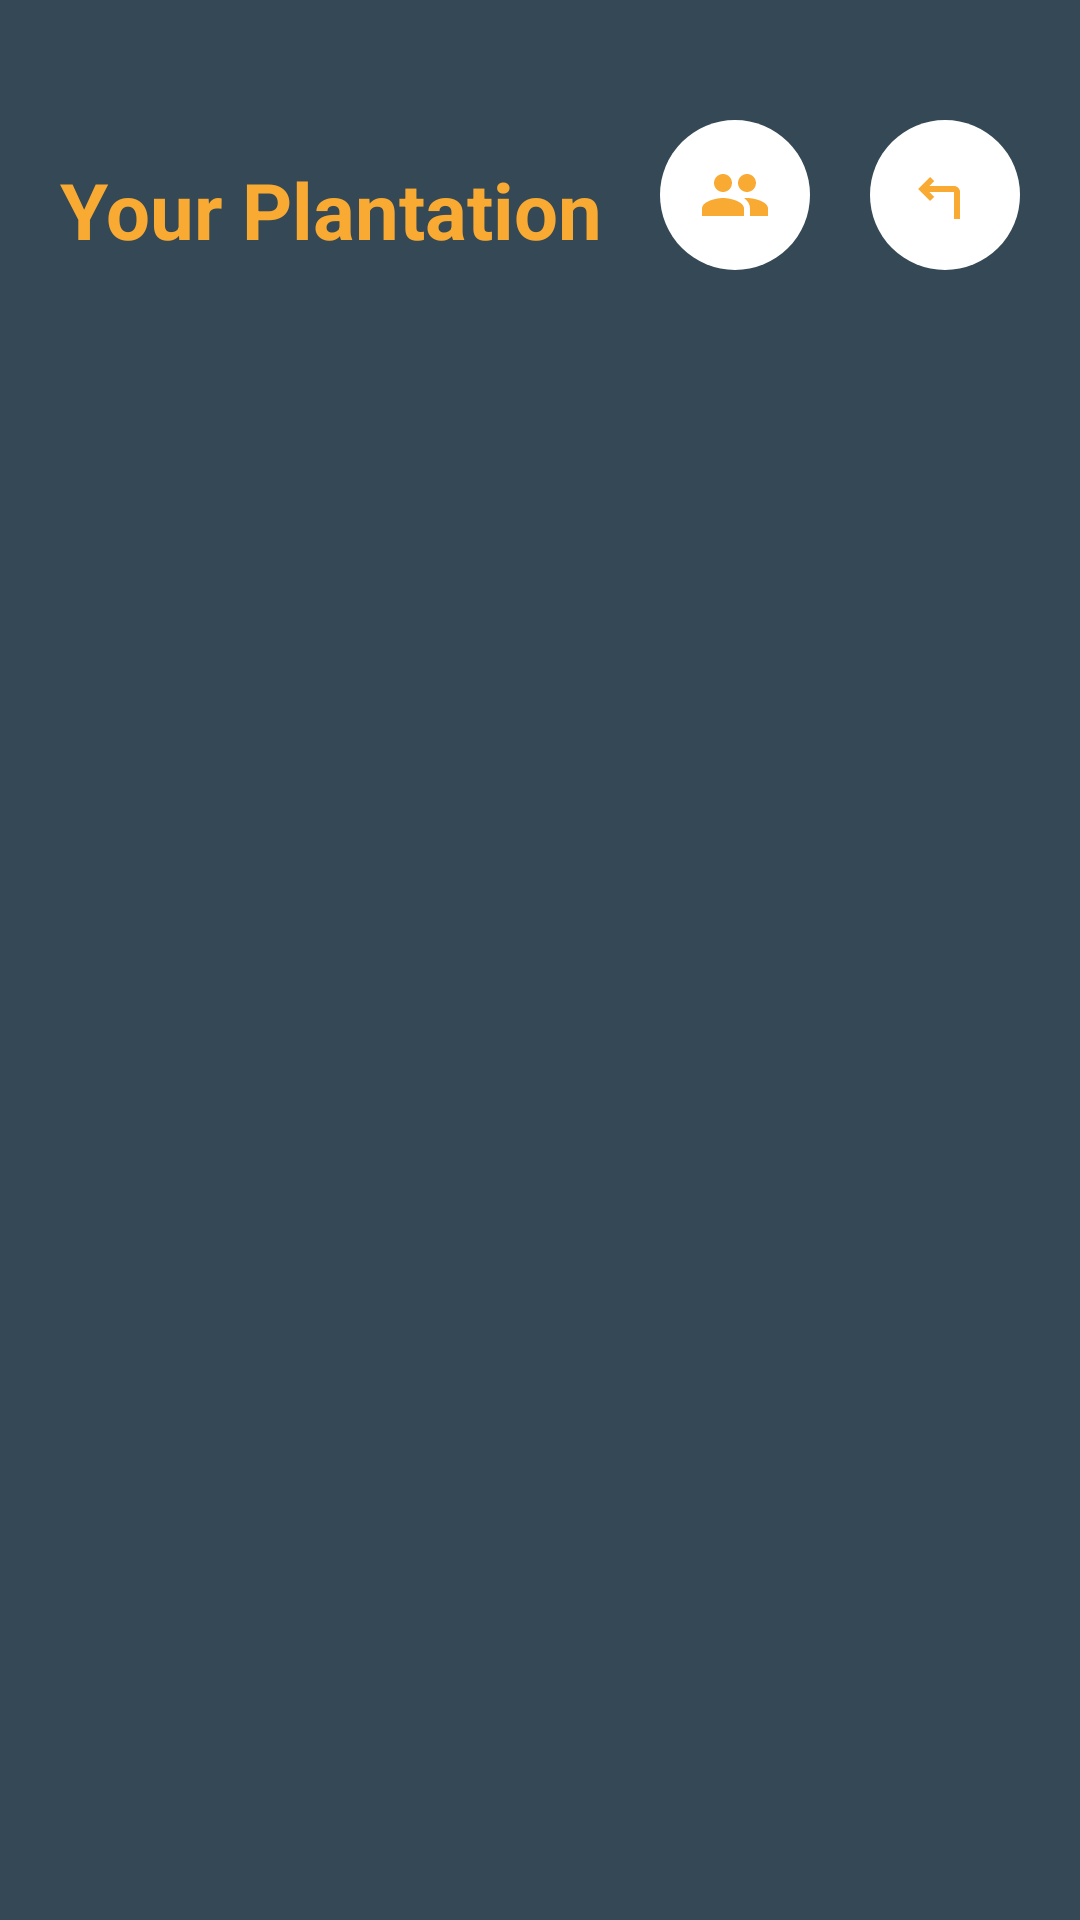

Screen size 1080×1920. Icon name, then its box in pixels as (x1, y1, x2, y2):
turn left: (870, 120, 1020, 270)
